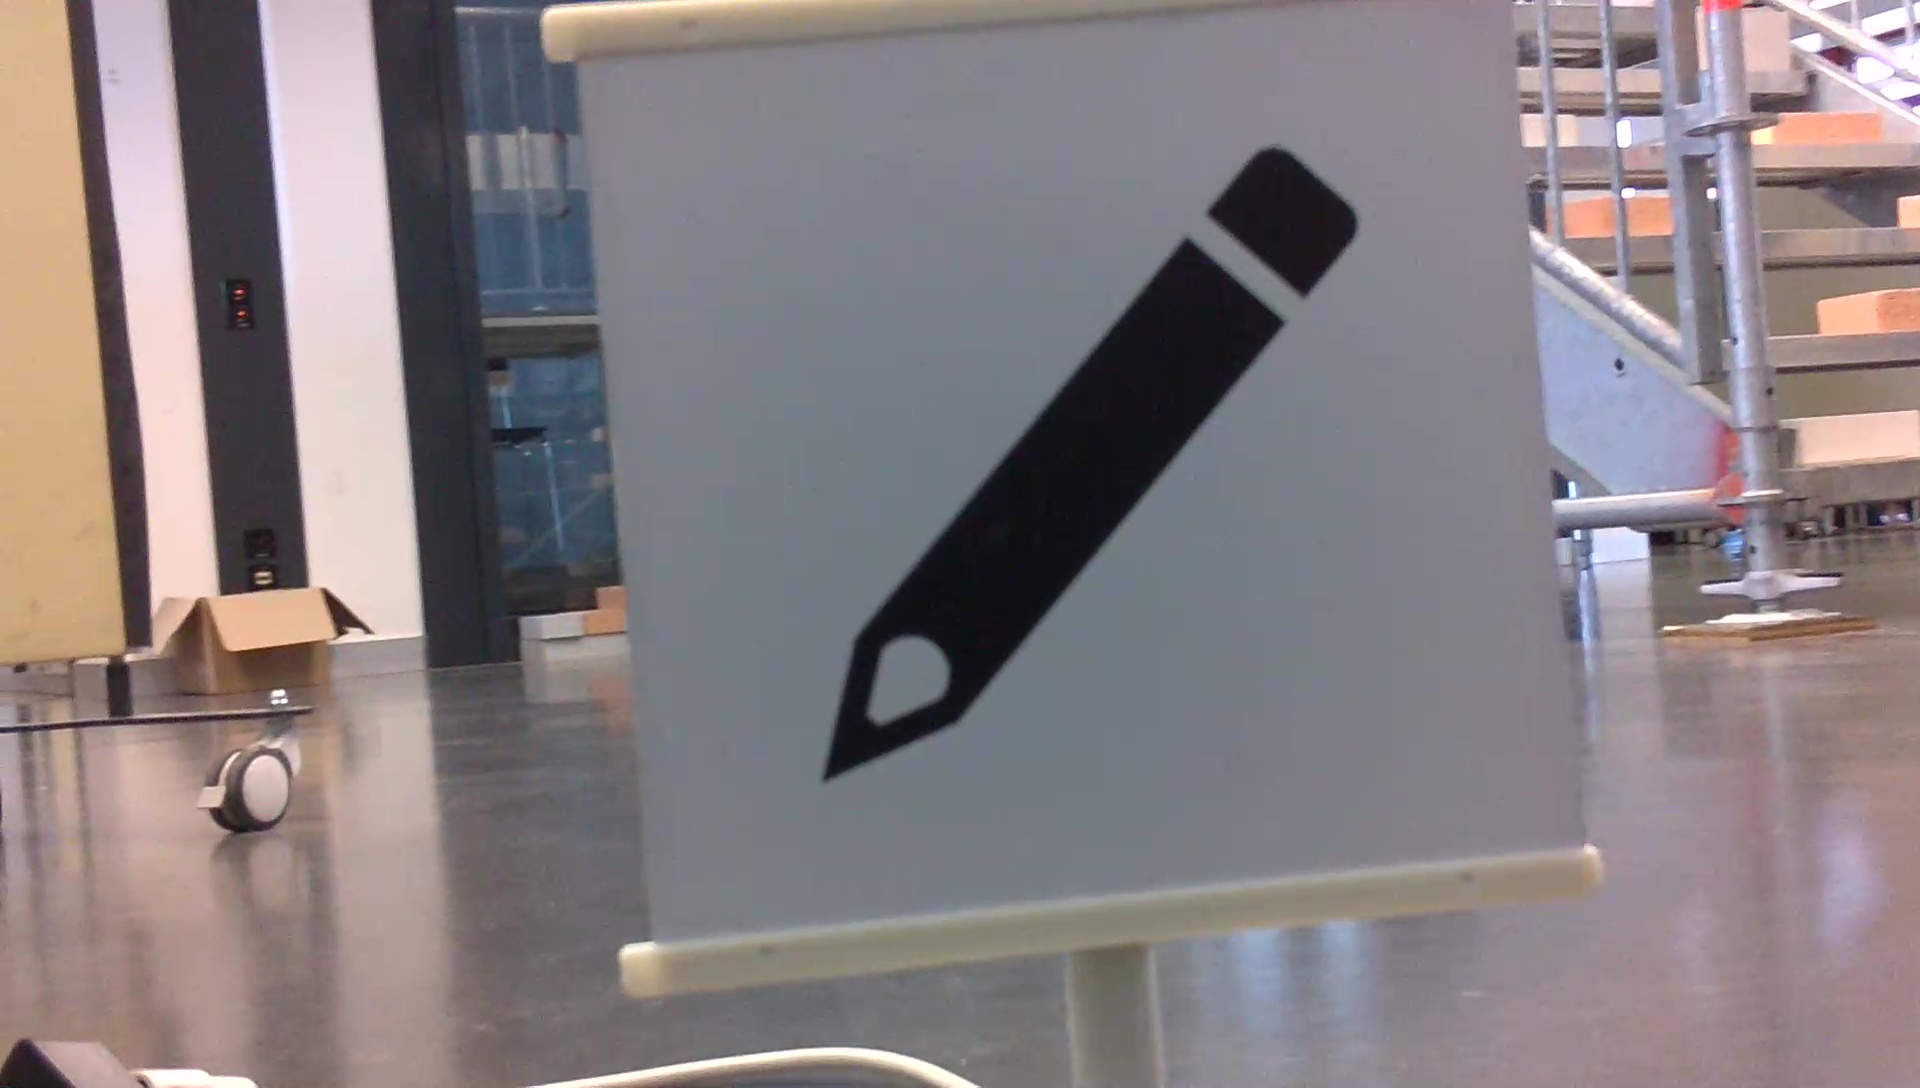brick: (1800, 411, 1917, 458), (1818, 287, 1920, 334), (1775, 112, 1879, 142)
pencil: (798, 127, 1375, 794)
